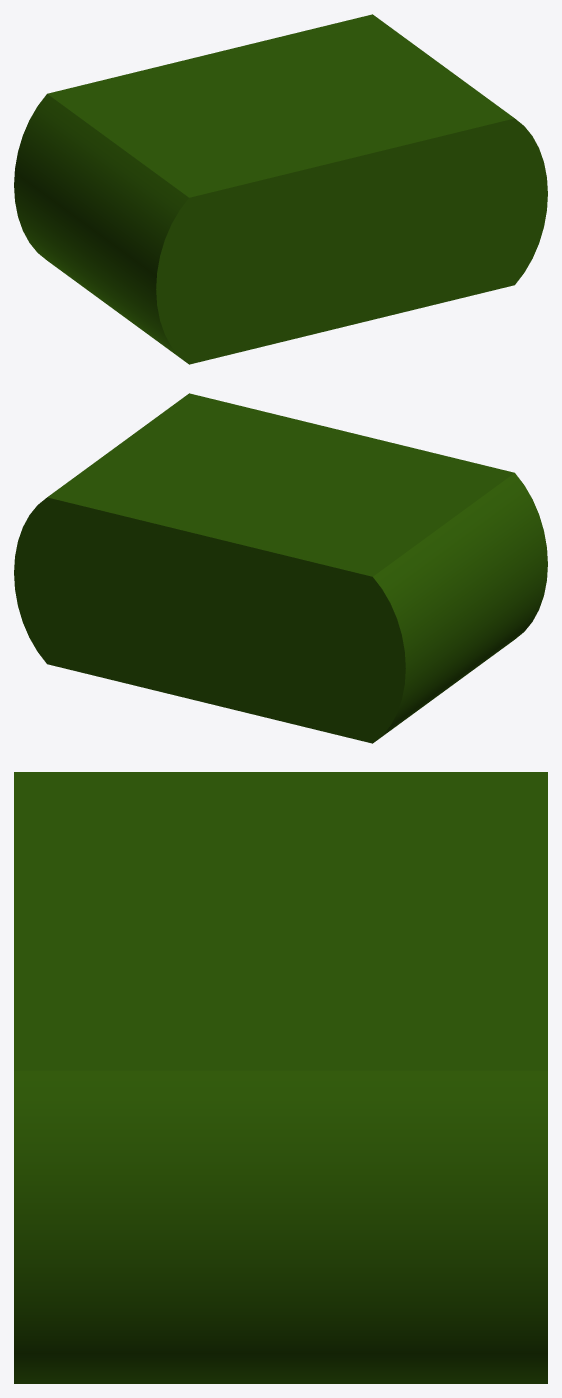
Rendered from original-10.obj.
3 renders of one model, top to bottom at view 1: azimuth 30°, elevation 25°; view 2: azimuth 150°, elevation 25°; view 3: azimuth 270°, elevation 25°, orthographic. The views are drawn at different scales.
Visible parts, largest first — view 1: mesh20/mesh20-geometry#mesh20-geometry; view 2: mesh20/mesh20-geometry#mesh20-geometry; view 3: mesh20/mesh20-geometry#mesh20-geometry.
Boxes of the visible parts, x1=… form: mesh20/mesh20-geometry#mesh20-geometry: x1=14, y1=14, x2=547, y2=364; mesh20/mesh20-geometry#mesh20-geometry: x1=14, y1=393, x2=547, y2=743; mesh20/mesh20-geometry#mesh20-geometry: x1=14, y1=772, x2=547, y2=1383.
Size of the model in its own units: 0.0719 by 0.0293 by 0.0452.
